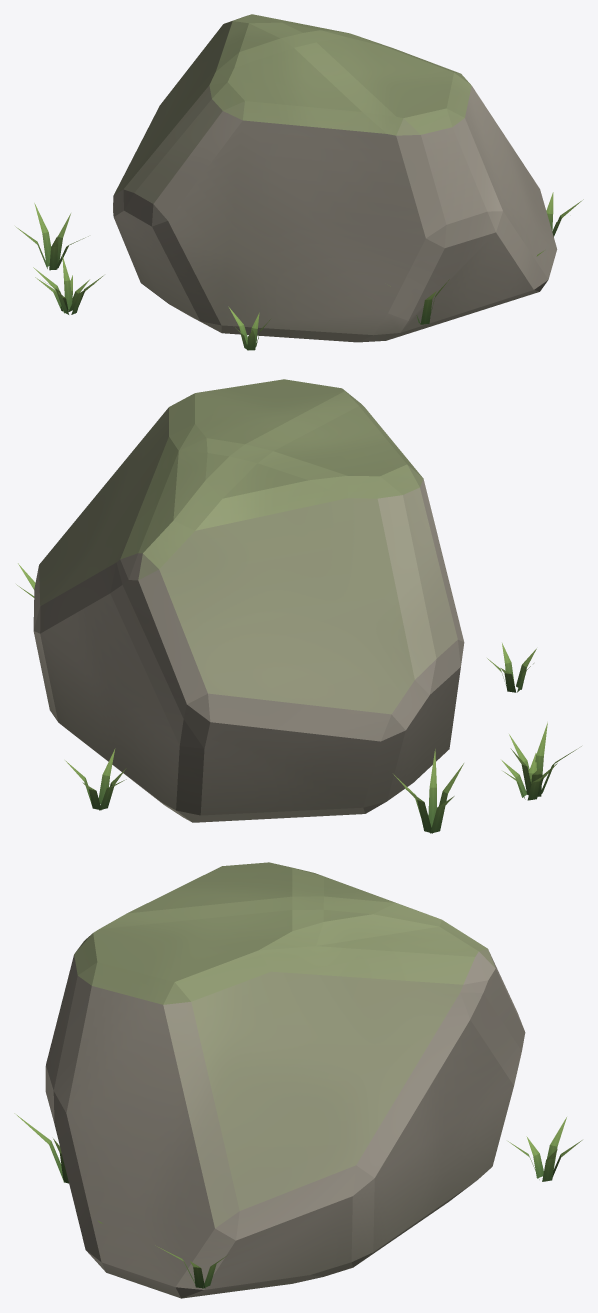
The model's file is boulder_5.glb.
3 views of the same model, one above another, from view 1: azimuth 30°, elevation 25°; view 2: azimuth 150°, elevation 25°; view 3: azimuth 270°, elevation 25° (orthographic). The views are drawn at different scales.
Visible parts, largest first — view 1: boulder_5_rock, boulder_5_weeds; view 2: boulder_5_rock, boulder_5_weeds; view 3: boulder_5_rock, boulder_5_weeds.
Part boxes in pixels (x1,y1,x2,y2): boulder_5_rock: [113, 14, 557, 342]; boulder_5_weeds: [15, 192, 583, 350]; boulder_5_rock: [33, 379, 464, 822]; boulder_5_weeds: [16, 563, 581, 833]; boulder_5_rock: [45, 862, 525, 1298]; boulder_5_weeds: [14, 1113, 582, 1288].
Bounding box in the file's own units: 3.52 × 1.69 × 2.87.
2 materials, 2 textured.
